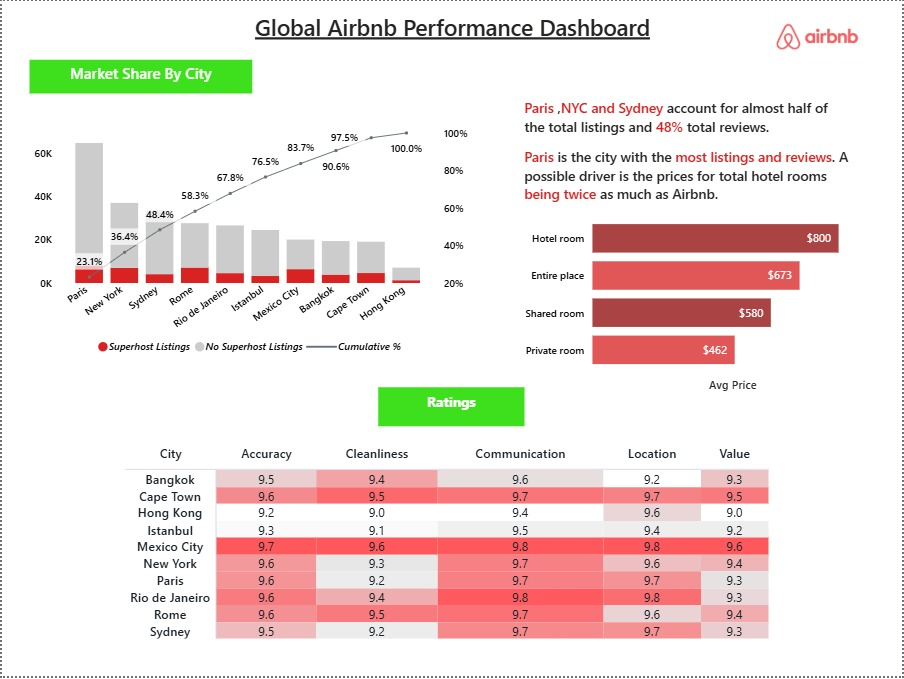

Layout of this report page (visuals, bound fields, positions):
{"tool":"powerbi","page":{"name":"Ratings","canvas":[960,720],"ordinal":1},"visuals":[{"type":"textbox","box":[206.1,6.1,547.8,53.8],"z":0},{"type":"image","box":[804,6.7,130.7,60],"z":1000},{"type":"textbox","box":[29.3,62.7,237.3,36],"z":2000},{"type":"lineStackedColumnComboChart","fields":{"Category":["Listings.city"],"Y":["Listings.Superhost Listings","Listings.No Superhost Listings"],"Y2":["Listings.Cumulative %"]},"box":[29.3,125.3,473.3,261.3],"z":3000},{"type":"barChart","fields":{"Category":["Listings.room_type"],"Y":["Listings.Avg Price"]},"box":[552,209.3,382.7,213.3],"z":4000},{"type":"textbox","box":[552,98.7,357.3,52],"z":5000},{"type":"textbox","box":[552,150.7,370.7,84],"z":6000},{"type":"pivotTable","fields":{"Rows":["Listings.city"],"Values":["Listings.Accuracy","Listings.Cleanliness","Listings.Communication","Listings.Location","Listings.Value"]},"box":[202.7,464,706.7,218.7],"z":7500},{"type":"image","box":[29.3,386.7,150.7,309.3],"z":8000},{"type":"image","box":[69.4,474.7,66.7,37.3],"z":9000,"group":"g1"},{"type":"textbox","box":[480,401.3,156,41.3],"z":10000},{"type":"image","box":[78.7,553.3,46.7,38.7],"z":10000,"group":"g2"},{"type":"textbox","box":[26.7,437.3,169.3,37.3],"z":11000},{"type":"group","id":"g1","title":"Group 1","box":[50.7,474.7,104,73.3],"z":11375},{"type":"group","id":"g2","title":"Group 2","box":[48,553.3,116,73.3],"z":11750},{"type":"textbox","box":[50.7,512,104,36],"z":14000,"group":"g1"},{"type":"textbox","box":[48,592,116,34.7],"z":15000,"group":"g2"}]}

Visuals, with their boxes in screenshot pixels (x1, y1, x2, y2), scaled from the page's 960x720 canvas onto the 904x679 screenshot:
textbox: 194:6:710:56
image: 757:6:880:63
textbox: 28:59:251:93
lineStackedColumnComboChart - Listings.city x Listings.Superhost Listings: 28:118:473:365
barChart - Listings.room_type x Listings.Avg Price: 520:197:880:399
textbox: 520:93:856:142
textbox: 520:142:869:221
pivotTable - Listings.city x Listings.Accuracy: 191:438:856:644
image: 28:365:170:656
image: 65:448:128:483
textbox: 452:378:599:417
image: 74:522:118:558
textbox: 25:412:185:448
"Group 1" group: 48:448:146:517
"Group 2" group: 45:522:154:591
textbox: 48:483:146:517
textbox: 45:558:154:591
